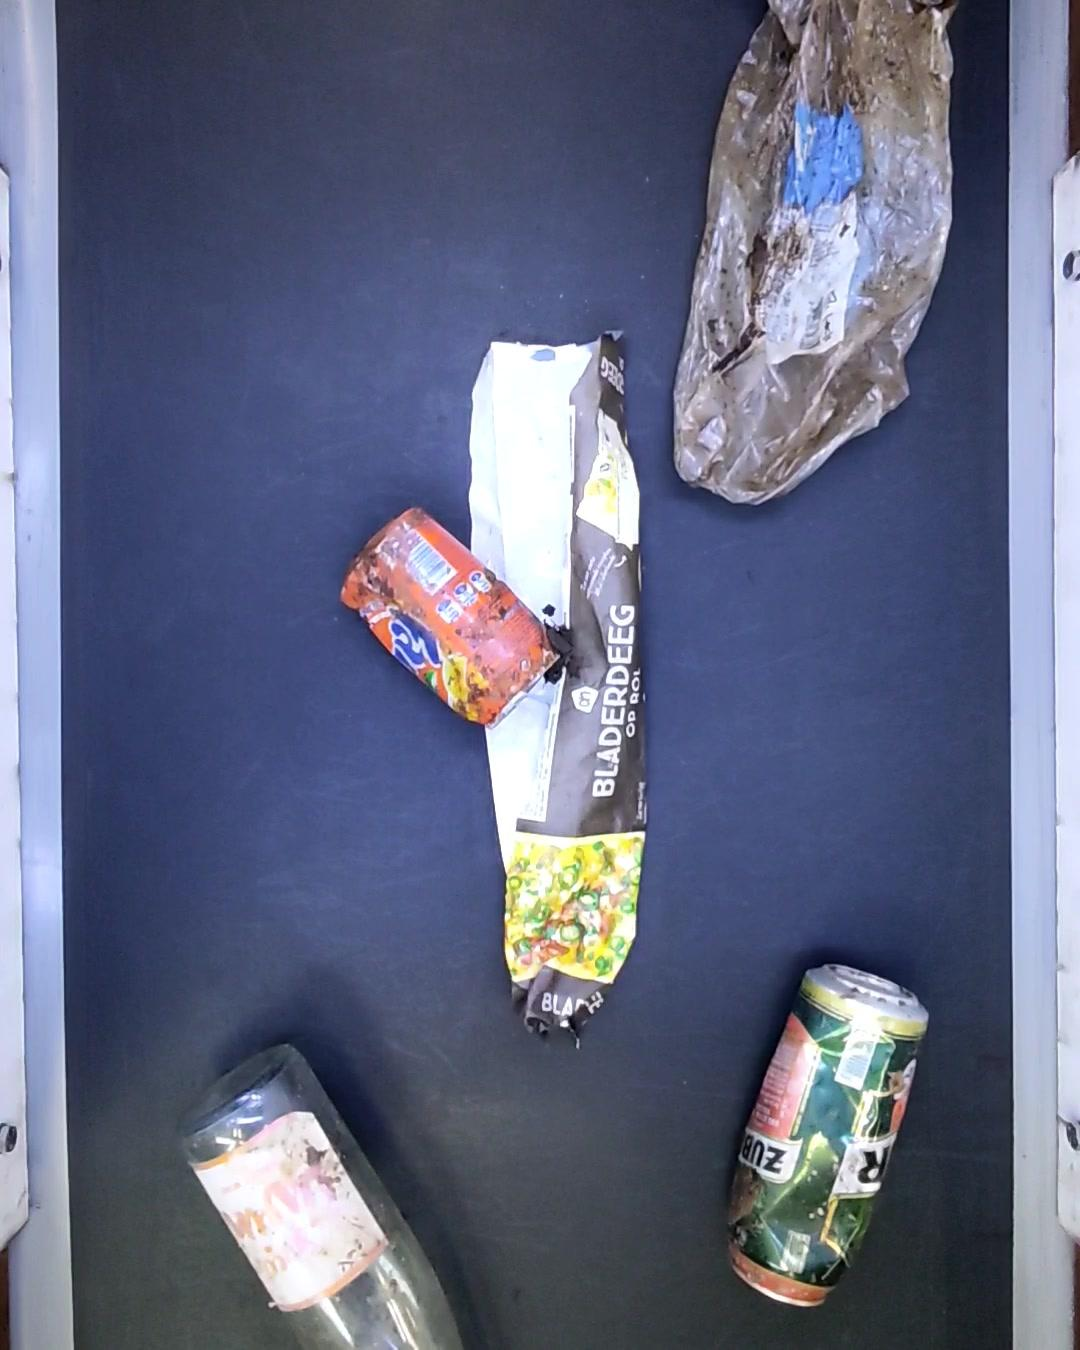Drankblikjes: (725, 960, 926, 1310), (341, 504, 559, 733)
Plastic folies of stukken daarvan 2.5- 50 cm: (677, 0, 961, 512)
Voedselverpakkingen: (464, 326, 654, 1044)
